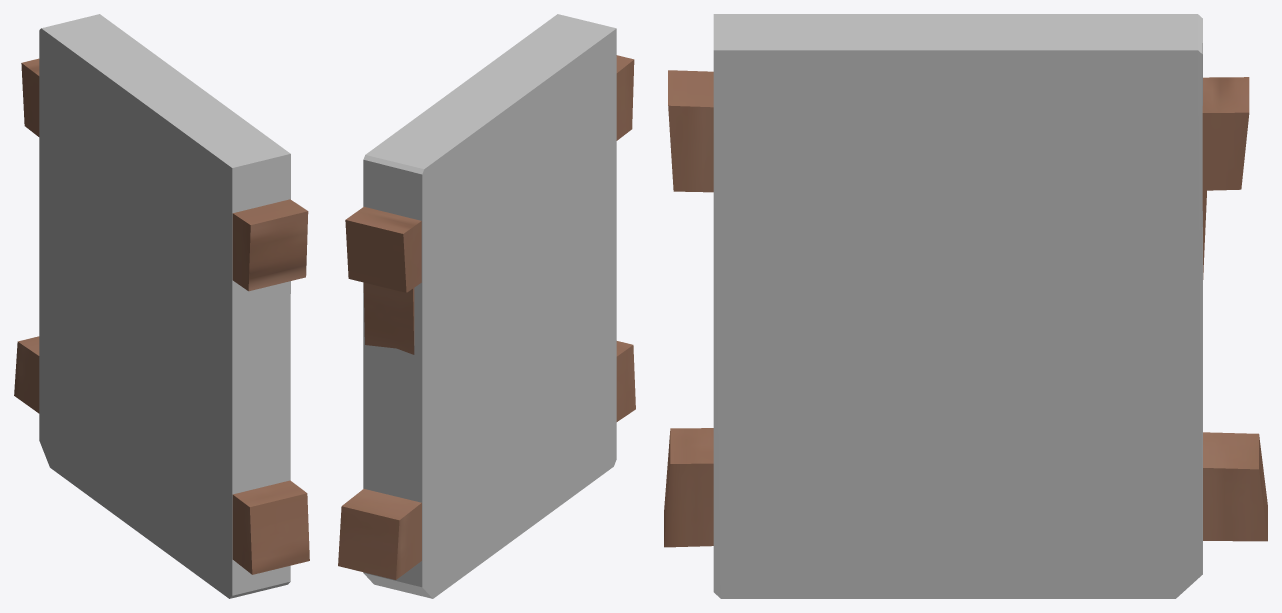
File: SM_wooden_window_03.fbx
The picture shows the model from 3 angles, left to right: view 1: azimuth 30°, elevation 25°; view 2: azimuth 150°, elevation 25°; view 3: azimuth 270°, elevation 25°; orthographic projection. The views are drawn at different scales.
Parts seen in each view (by area): view 1: SM_wooden_window_03_ConvexHulls, SM_wooden_window_03; view 2: SM_wooden_window_03_ConvexHulls, SM_wooden_window_03; view 3: SM_wooden_window_03_ConvexHulls, SM_wooden_window_03.
Boxes of the visible parts, x1,y1,x2,y2 form: SM_wooden_window_03_ConvexHulls: [39, 14, 290, 598]; SM_wooden_window_03: [14, 58, 309, 574]; SM_wooden_window_03_ConvexHulls: [363, 14, 616, 598]; SM_wooden_window_03: [338, 55, 635, 579]; SM_wooden_window_03_ConvexHulls: [713, 14, 1202, 598]; SM_wooden_window_03: [664, 70, 1267, 547].
Bounding box in the file's own units: 11.5 × 80.91 × 81.11.
